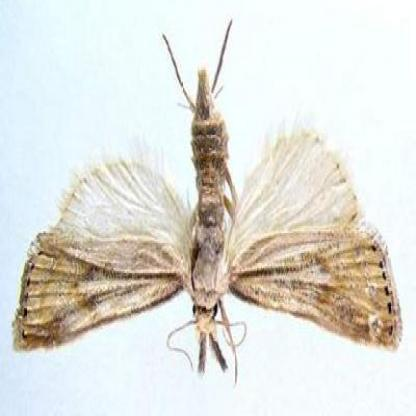stem-borer: (12, 17, 404, 382)
